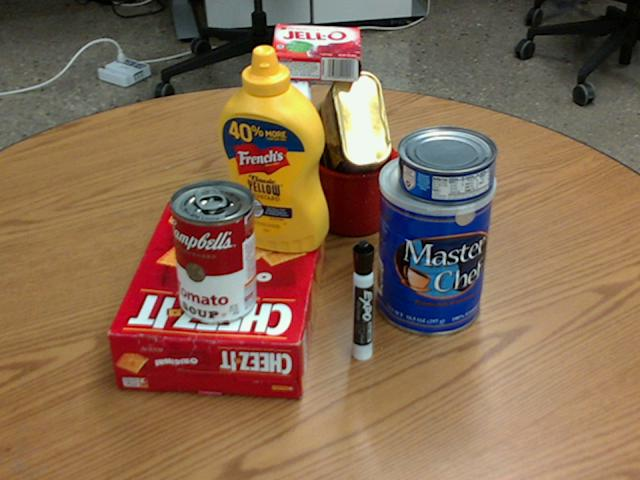cracker_box: (108, 202, 326, 399)
gelatin_box: (268, 25, 360, 82)
large_marker: (351, 240, 374, 360)
master_chef_can: (374, 149, 494, 334)
mug: (312, 132, 414, 234)
mustard_bottle: (216, 45, 327, 251)
potted_meat_can: (315, 73, 391, 188)
sugar_box: (267, 57, 309, 246)
tomato_soup_can: (169, 179, 257, 323)
tuna_fish_can: (397, 125, 497, 203)
